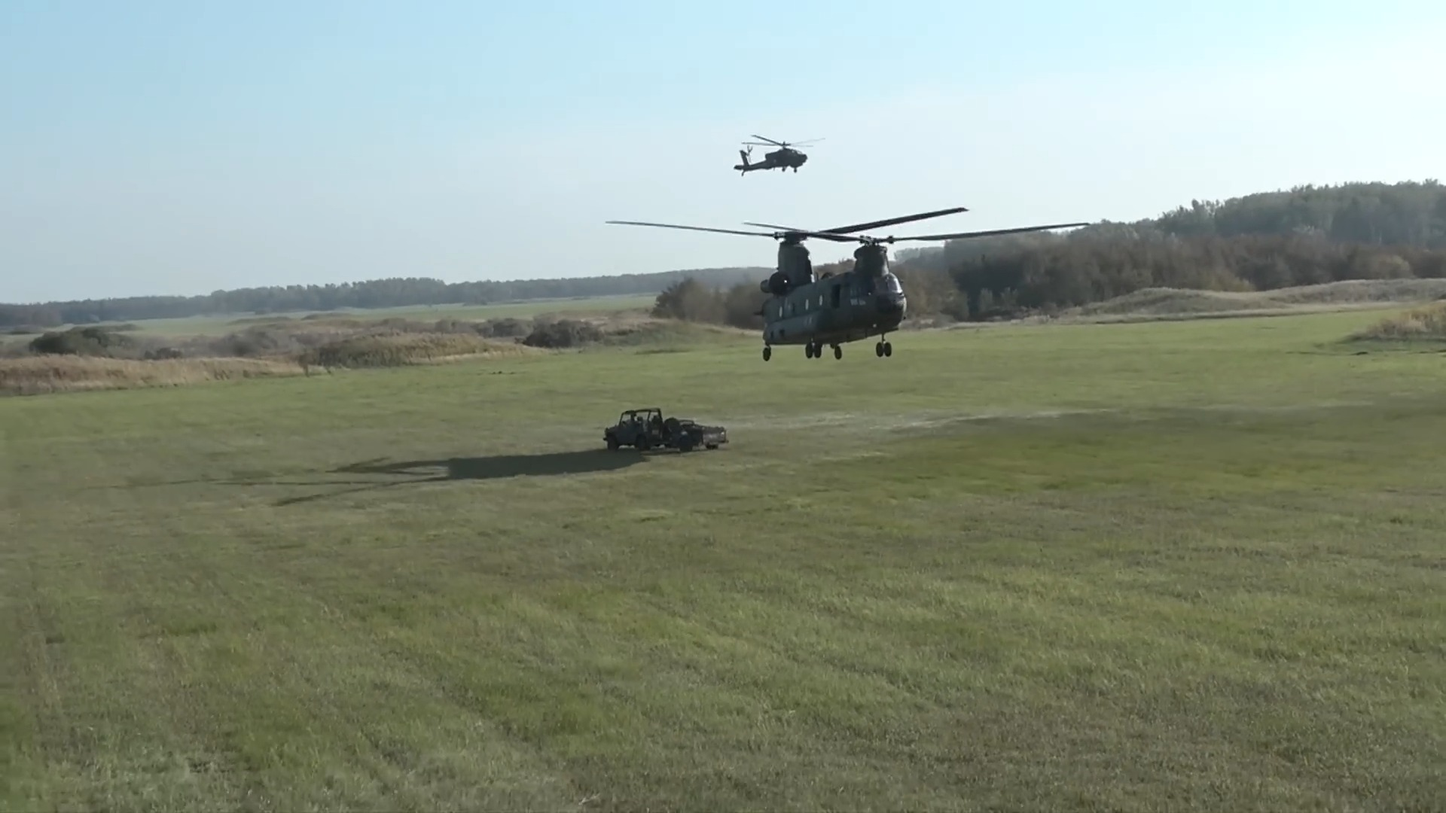helicopter: (656, 202, 1012, 369), (721, 121, 813, 182)
